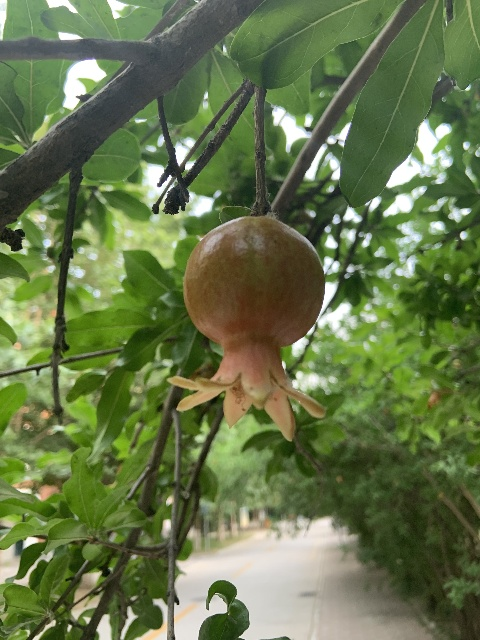early-fruit: (166, 214, 327, 442)
